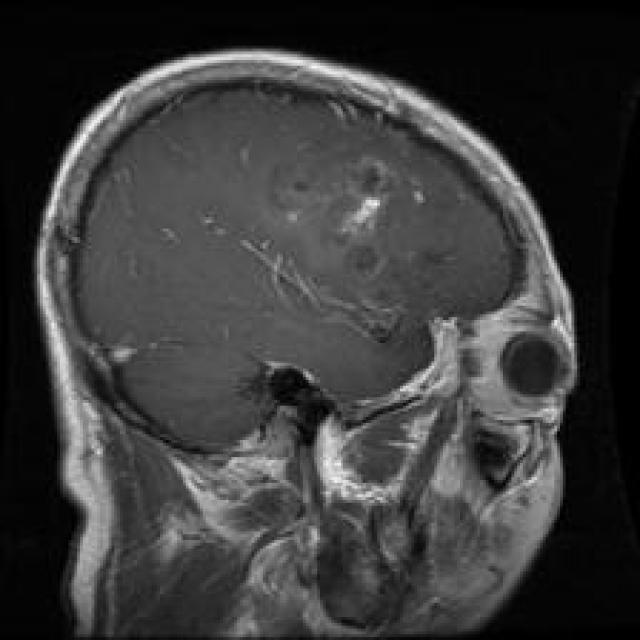glioma_tumor: (248, 141, 472, 292)
